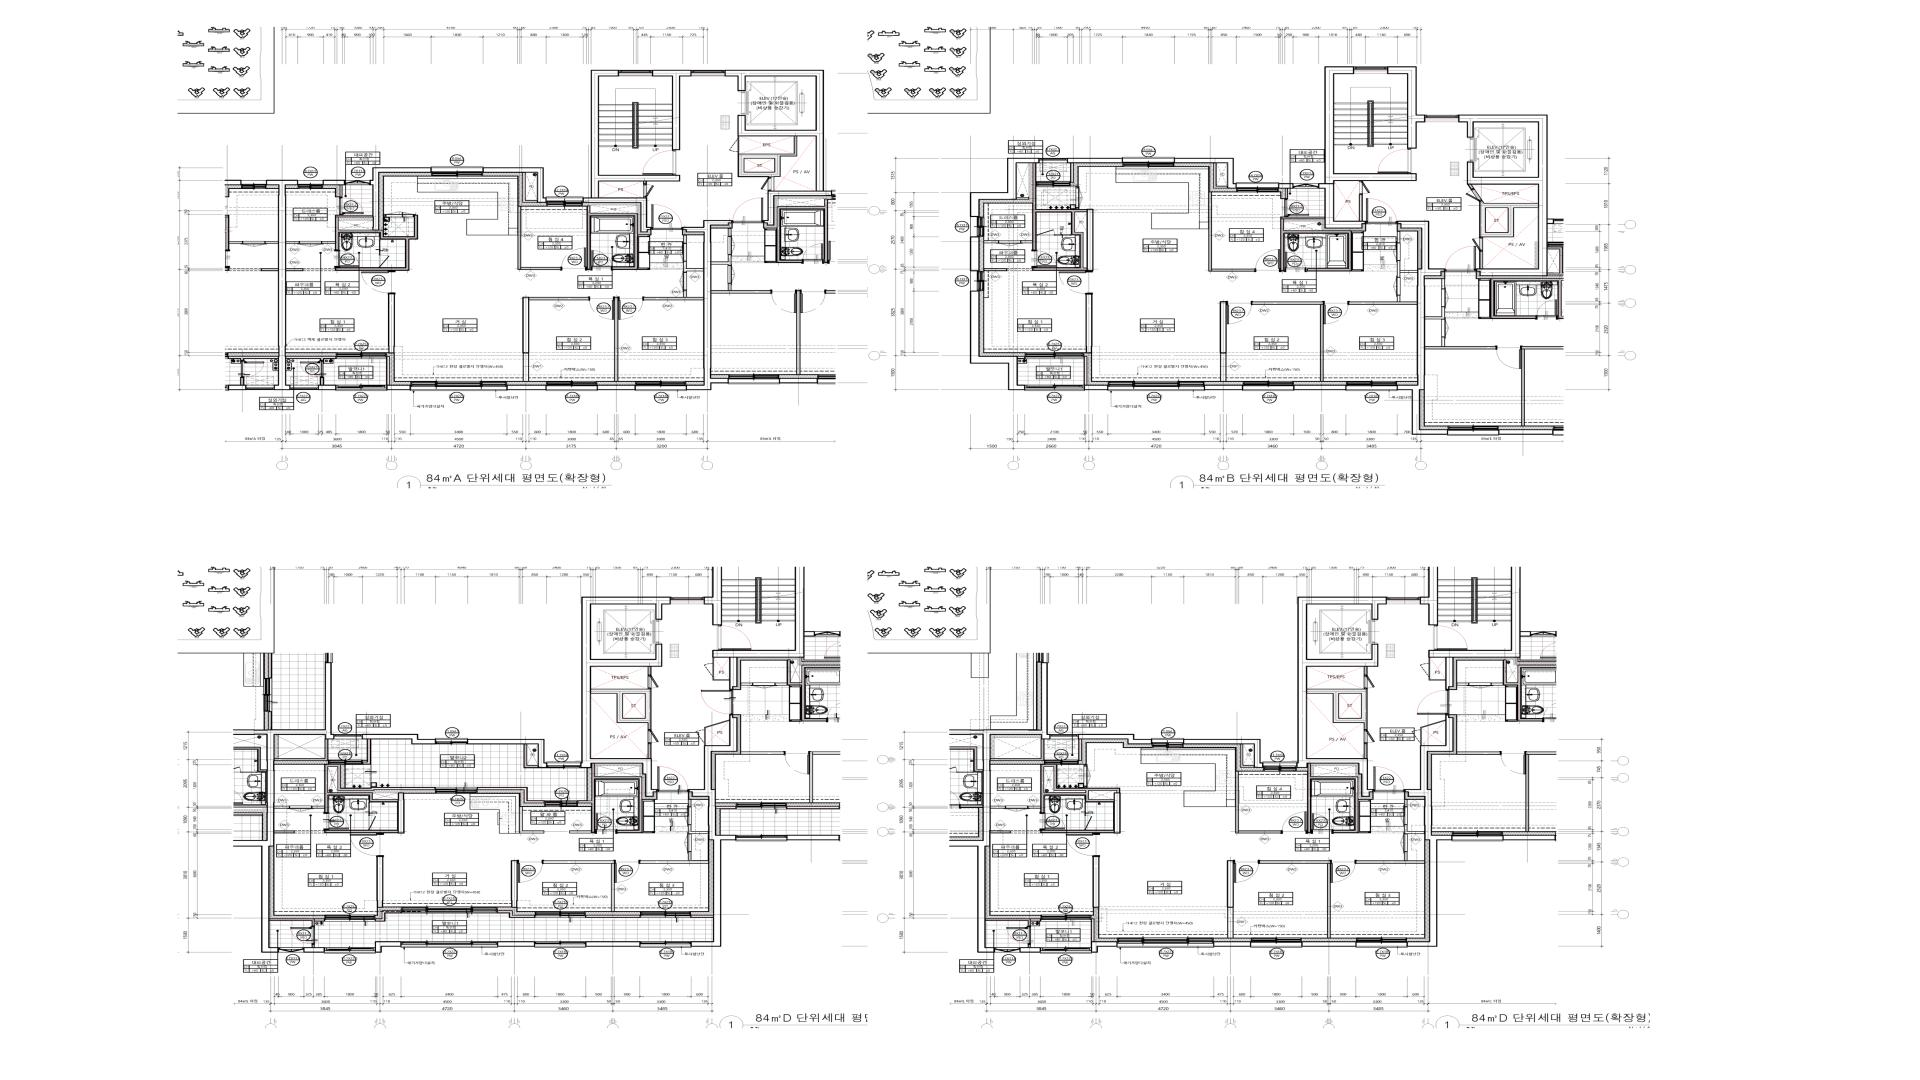door: (717, 625, 752, 650), (642, 150, 676, 175), (1366, 198, 1396, 225), (651, 202, 682, 229), (1373, 766, 1404, 793), (1435, 625, 1468, 650), (1378, 149, 1412, 173), (1059, 270, 1093, 294), (658, 766, 688, 793), (351, 833, 384, 857), (1067, 833, 1100, 857), (361, 272, 396, 294), (1233, 860, 1261, 884), (617, 297, 645, 320), (615, 860, 641, 884), (517, 860, 543, 884), (1331, 860, 1357, 884), (1226, 301, 1253, 324), (1323, 301, 1349, 324), (589, 297, 615, 320), (1282, 811, 1307, 833), (562, 248, 587, 270), (1255, 249, 1280, 272), (1039, 812, 1065, 831), (290, 926, 315, 944), (334, 249, 359, 268), (323, 812, 349, 829), (595, 814, 617, 833), (1284, 252, 1307, 272), (1006, 927, 1031, 944), (339, 198, 364, 215), (1031, 251, 1056, 268), (1284, 199, 1309, 216), (1312, 814, 1333, 833), (591, 251, 612, 270), (299, 361, 323, 377), (1464, 189, 1482, 204), (729, 136, 740, 154), (647, 674, 659, 688), (1364, 729, 1375, 744), (644, 182, 654, 198), (1364, 675, 1375, 688), (1076, 186, 1083, 210), (1472, 237, 1484, 251), (647, 729, 658, 744), (761, 177, 771, 191), (1360, 181, 1370, 195), (290, 806, 313, 812), (1084, 765, 1091, 787), (1006, 806, 1029, 812), (378, 255, 389, 268), (1000, 240, 1021, 247), (1036, 229, 1056, 236), (299, 241, 322, 247), (368, 815, 376, 829), (1084, 815, 1092, 829)
wall: (582, 596, 671, 796), (1298, 596, 1387, 796), (725, 70, 832, 225), (977, 731, 1051, 953), (261, 731, 334, 953), (1319, 66, 1418, 228), (583, 70, 680, 232), (1458, 115, 1548, 277), (1428, 543, 1522, 690), (712, 543, 804, 690), (1404, 715, 1455, 947), (688, 715, 737, 947), (1396, 220, 1448, 435), (682, 220, 733, 390), (266, 179, 298, 390), (1033, 164, 1087, 270), (522, 297, 589, 381), (1253, 302, 1324, 381), (971, 291, 1025, 390), (1261, 861, 1331, 938), (324, 765, 435, 812), (335, 215, 418, 272), (578, 764, 642, 833), (969, 158, 1039, 218), (369, 167, 431, 231), (1040, 765, 1121, 812), (1208, 191, 1255, 272), (1280, 219, 1352, 272), (543, 861, 615, 913), (1307, 764, 1358, 833), (587, 206, 638, 270), (651, 70, 691, 150), (1387, 66, 1425, 149), (704, 543, 742, 625), (1420, 543, 1458, 625), (1236, 771, 1282, 833), (518, 207, 562, 270), (467, 738, 547, 769), (1308, 688, 1367, 729), (1183, 738, 1263, 767), (483, 167, 546, 203), (1480, 200, 1539, 237), (1175, 158, 1237, 189), (274, 740, 328, 761), (990, 740, 1044, 761), (1042, 767, 1085, 793), (477, 787, 545, 803), (361, 733, 436, 745), (640, 852, 708, 864), (1357, 852, 1424, 864), (1077, 735, 1153, 745), (520, 806, 545, 833), (1420, 720, 1445, 745), (645, 290, 704, 301), (1226, 860, 1234, 939), (1349, 295, 1416, 305), (1338, 694, 1361, 719), (1220, 302, 1226, 382), (1085, 295, 1093, 353), (642, 799, 655, 833), (522, 173, 537, 203), (1087, 208, 1093, 270), (1092, 857, 1100, 907), (376, 857, 384, 907), (388, 294, 394, 353), (969, 236, 980, 272), (1429, 658, 1445, 680), (269, 919, 314, 927), (524, 745, 538, 769), (1396, 261, 1418, 277), (1213, 164, 1226, 189), (375, 942, 402, 953), (375, 910, 402, 922), (615, 298, 618, 381), (1240, 745, 1254, 767), (397, 793, 405, 833), (510, 860, 517, 907), (1091, 942, 1117, 953), (497, 910, 535, 918), (1067, 158, 1124, 164), (986, 919, 1031, 926), (585, 942, 641, 947), (1040, 829, 1114, 833), (324, 829, 398, 833), (1302, 942, 1357, 947), (1294, 385, 1346, 390), (1114, 793, 1121, 833), (286, 356, 336, 361), (683, 261, 703, 273), (363, 740, 372, 765), (506, 385, 547, 390), (688, 824, 708, 835), (1204, 385, 1244, 390), (597, 385, 636, 390), (497, 942, 535, 947), (1213, 942, 1251, 947), (1404, 825, 1424, 835), (1019, 947, 1042, 953), (585, 915, 641, 918), (303, 947, 324, 953), (1084, 385, 1109, 390), (386, 385, 411, 390), (1280, 216, 1324, 219), (1084, 356, 1088, 385), (386, 356, 390, 385), (1077, 740, 1083, 761), (318, 385, 336, 390), (335, 215, 372, 218), (984, 268, 1007, 272), (323, 181, 345, 185), (1091, 919, 1095, 942), (1278, 183, 1294, 189), (1480, 251, 1484, 269), (1360, 195, 1362, 220), (690, 915, 713, 918), (984, 240, 1000, 244), (1364, 744, 1367, 758), (990, 831, 1011, 833), (570, 831, 591, 833), (274, 831, 294, 833), (1071, 164, 1073, 183), (339, 186, 343, 198), (286, 269, 303, 272), (990, 806, 1006, 808), (274, 806, 290, 808), (1284, 189, 1288, 199), (1022, 240, 1033, 244), (319, 377, 324, 385), (683, 235, 687, 244), (1468, 185, 1474, 190), (286, 241, 299, 244), (322, 241, 335, 244), (1364, 667, 1367, 675), (1404, 799, 1408, 807), (1029, 806, 1040, 808), (313, 806, 324, 808), (688, 799, 692, 807), (1017, 198, 1029, 200), (1031, 919, 1042, 922), (1398, 232, 1400, 243), (315, 919, 324, 922), (1018, 356, 1025, 359), (1027, 944, 1031, 947), (363, 760, 367, 762), (311, 944, 315, 947)
window: (1117, 938, 1213, 948), (1108, 381, 1204, 392), (411, 381, 506, 392), (402, 942, 497, 948), (402, 907, 497, 914), (431, 166, 483, 177), (1124, 157, 1175, 167), (1251, 938, 1302, 948), (636, 381, 686, 392), (1357, 938, 1407, 948), (547, 381, 596, 392), (1346, 381, 1396, 390), (1244, 381, 1294, 390), (1025, 385, 1084, 392), (1025, 352, 1084, 359), (546, 196, 583, 207), (1237, 183, 1279, 193), (641, 942, 691, 948), (535, 911, 585, 918), (535, 942, 585, 948), (1040, 947, 1091, 953), (336, 352, 386, 359), (336, 385, 386, 392), (641, 911, 690, 918), (326, 915, 375, 922), (1042, 915, 1091, 922), (1263, 762, 1298, 771), (1153, 738, 1183, 748), (435, 787, 477, 794), (324, 948, 375, 953), (1354, 66, 1387, 74), (971, 272, 984, 291), (971, 218, 984, 237), (547, 762, 582, 769), (742, 543, 775, 550), (545, 800, 578, 807), (671, 597, 704, 604), (1458, 543, 1491, 550), (1387, 597, 1420, 604), (1425, 115, 1458, 121), (298, 181, 323, 189), (328, 760, 363, 765), (1044, 760, 1079, 765), (1036, 181, 1071, 186), (436, 738, 467, 744), (290, 385, 318, 390), (1039, 158, 1067, 164), (1051, 735, 1077, 740), (335, 735, 361, 740), (1294, 183, 1319, 189), (996, 947, 1019, 952), (278, 948, 303, 952), (345, 181, 369, 185)
